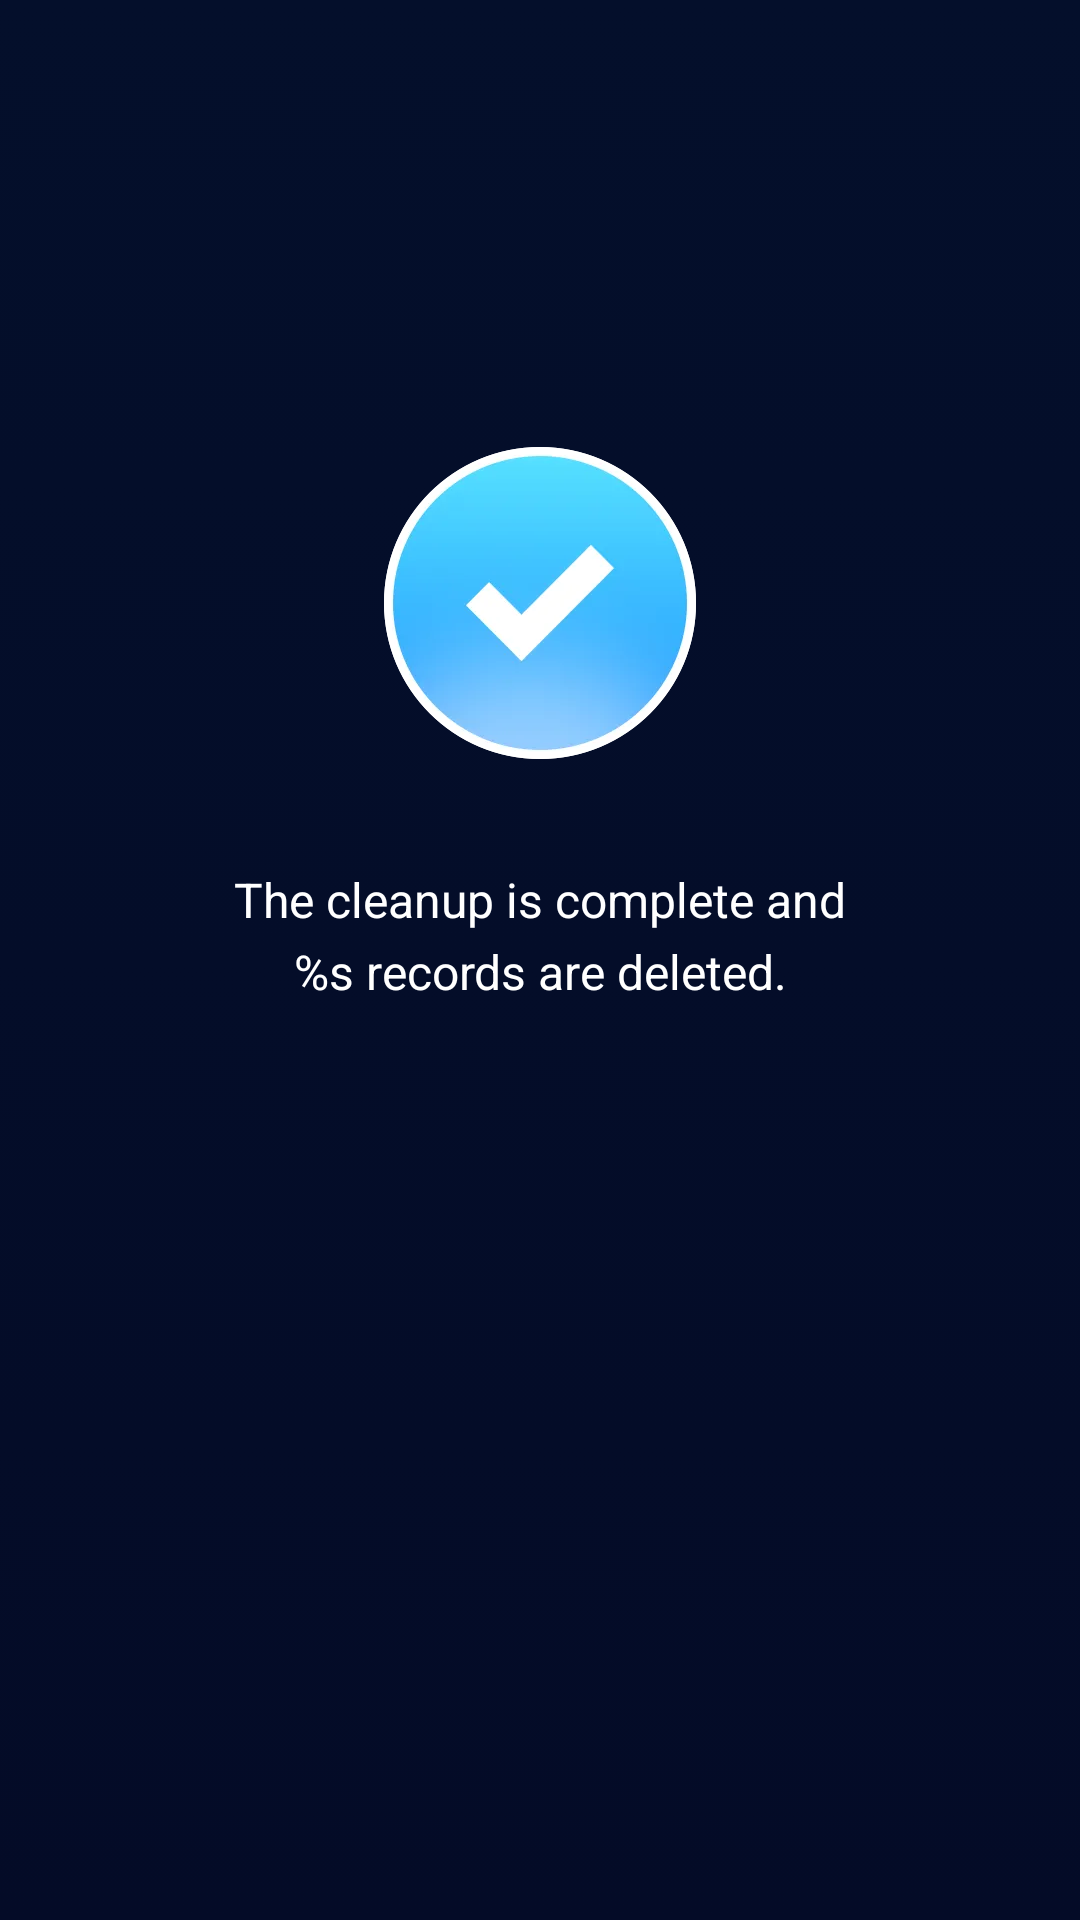

Where icons sit on this 1080 x 1920 app screen, as detection(x1, y1, x2, y2):
result ok: detection(384, 447, 696, 759)
